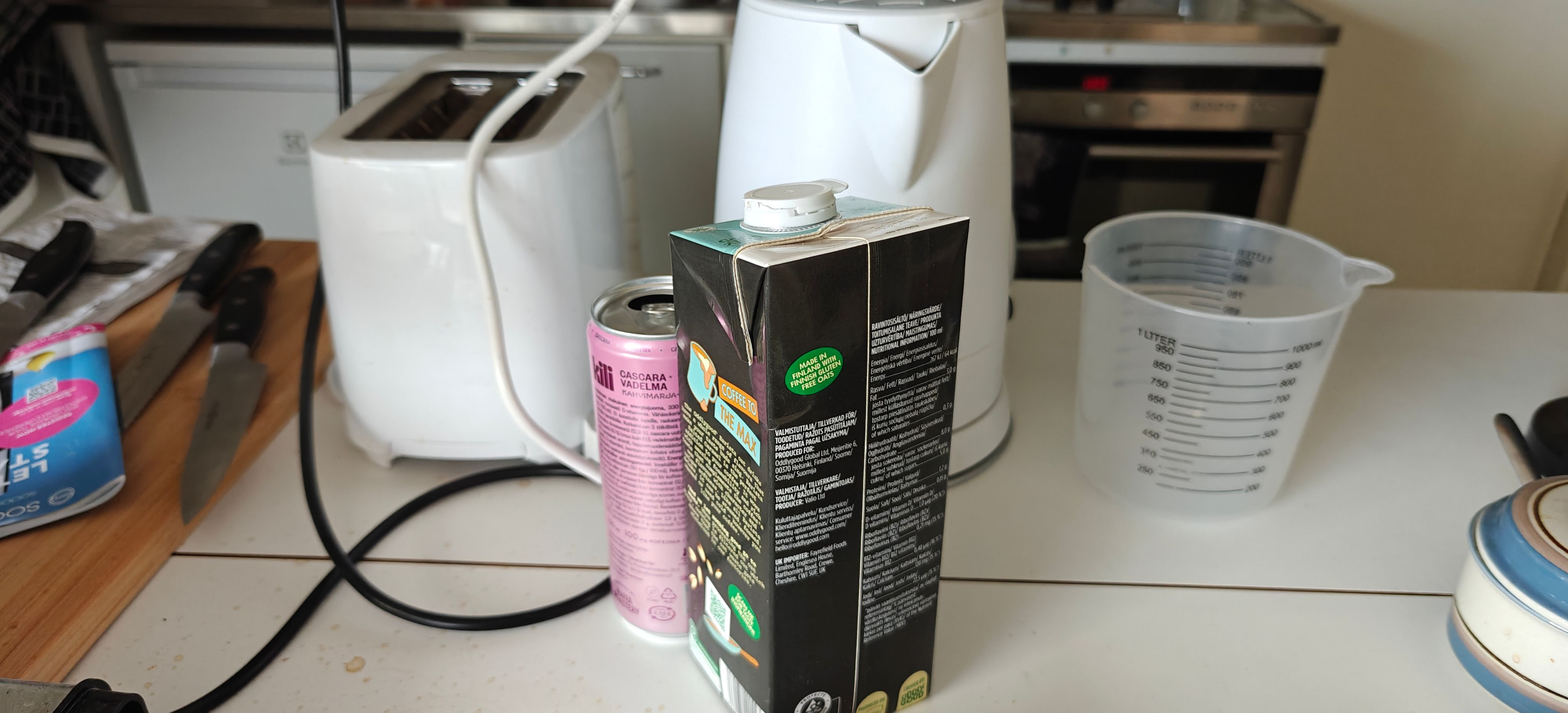Pantburk: (669, 179, 970, 713), (587, 277, 729, 638)
